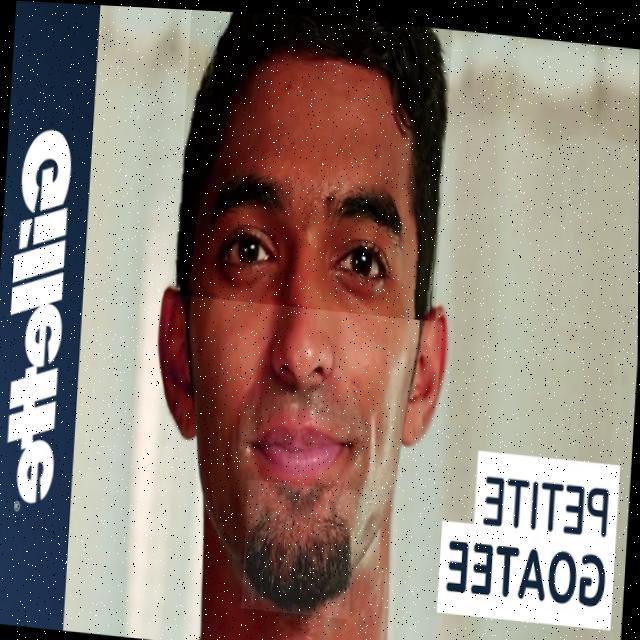beard: (244, 485, 352, 611)
hair: (179, 9, 447, 315)
